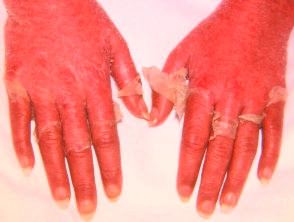SJS-TEN: (0, 0, 152, 222), (142, 0, 294, 222)
